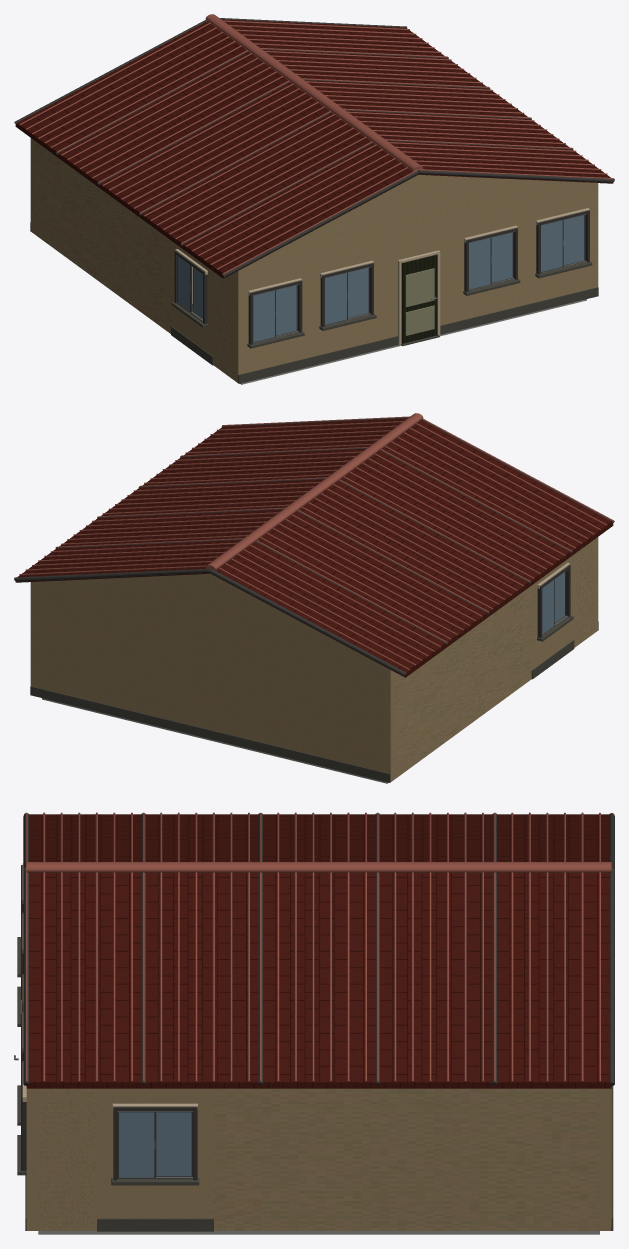
Rendered from MS_RR_D04_BoardingHouse.glb.
3 renders of one model, top to bottom at view 1: azimuth 30°, elevation 25°; view 2: azimuth 150°, elevation 25°; view 3: azimuth 270°, elevation 25°, orthographic. The views are drawn at different scales.
Parts seen in each view (by area): view 1: StaticBatch32, StaticBatch2, StaticBatch23, StaticBatch42, StaticBatch6, StaticBatch3, Plaster_005, RaisedPanel, Leaf_001, Glass_001, Glass_0012, Glass_0013 (+14 smaller); view 2: StaticBatch32, StaticBatch2, StaticBatch23, StaticBatch42, StaticBatch6, StaticBatch4, StaticBatch5, Frame5, StaticBatch3, Glass_0015; view 3: StaticBatch32, StaticBatch2, StaticBatch23, StaticBatch6, StaticBatch3, Glass_0016, Glass6, StaticBatch5, Frame6, StaticBatch.
Part boxes in pixels (<box>): StaticBatch32: <box>15,19,613,278</box>; StaticBatch2: <box>30,138,598,382</box>; StaticBatch23: <box>19,14,613,273</box>; StaticBatch42: <box>239,174,596,270</box>; StaticBatch6: <box>14,18,614,277</box>; StaticBatch3: <box>171,261,598,383</box>; Plaster_005: <box>382,218,454,339</box>; RaisedPanel: <box>405,268,434,335</box>; Leaf_001: <box>401,254,437,343</box>; Glass_001: <box>253,290,274,342</box>; Glass_0012: <box>325,273,346,324</box>; Glass_0013: <box>469,238,490,289</box>; StaticBatch32: <box>15,418,613,677</box>; StaticBatch2: <box>30,537,598,781</box>; StaticBatch23: <box>19,413,613,669</box>; StaticBatch42: <box>32,573,389,669</box>; StaticBatch6: <box>14,417,614,676</box>; StaticBatch4: <box>30,686,390,782</box>; StaticBatch5: <box>42,698,388,783</box>; Frame5: <box>537,564,570,637</box>; StaticBatch3: <box>531,616,598,679</box>; Glass_0015: <box>542,580,553,634</box>; StaticBatch32: <box>26,814,611,1088</box>; StaticBatch2: <box>26,1088,611,1230</box>; StaticBatch23: <box>25,812,611,1081</box>; StaticBatch6: <box>23,813,614,1085</box>; StaticBatch3: <box>17,937,213,1231</box>; Glass_0016: <box>119,1112,154,1177</box>; Glass6: <box>156,1112,191,1176</box>; StaticBatch5: <box>38,1231,599,1234</box>; Frame6: <box>113,1107,197,1180</box>; StaticBatch: <box>22,863,197,1110</box>.
Bounding box in the file's own units: 10.91 × 4.77 × 10.27.
Materials: 21 (6 with a texture image).
